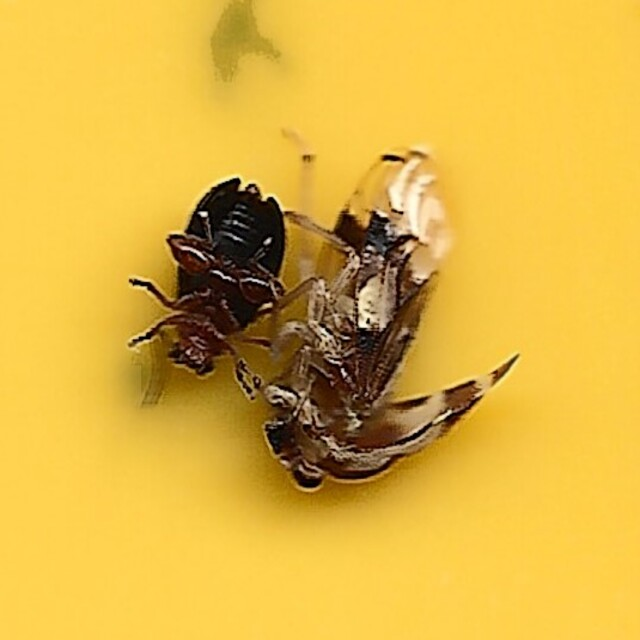Coleoptera: (120, 173, 300, 396)
Hemiptera: (262, 144, 520, 496)
